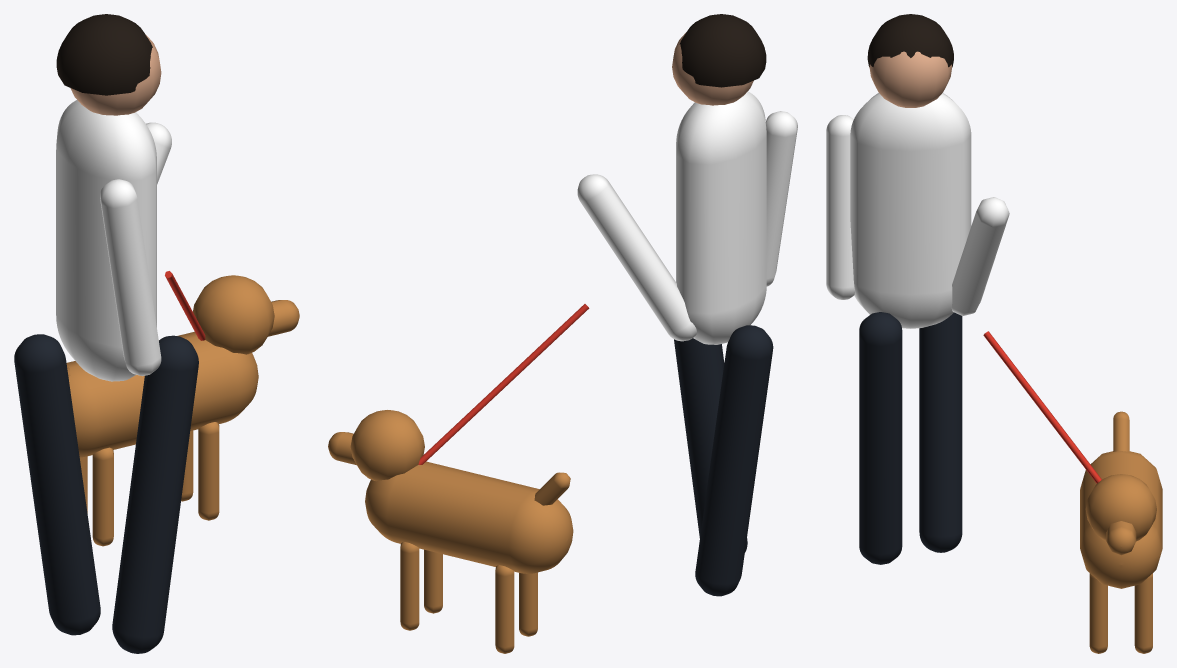
Rendered from persona_perro.glb.
3 renders of one model, left to right at view 1: azimuth 30°, elevation 25°; view 2: azimuth 150°, elevation 25°; view 3: azimuth 270°, elevation 25°, orthographic. The views are drawn at different scales.
Size of the model in its own units: 1.02 by 1.6 by 0.895.
